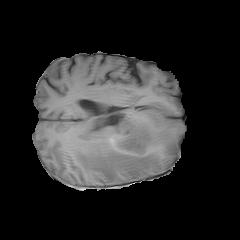glioma: (73, 109, 170, 183)
